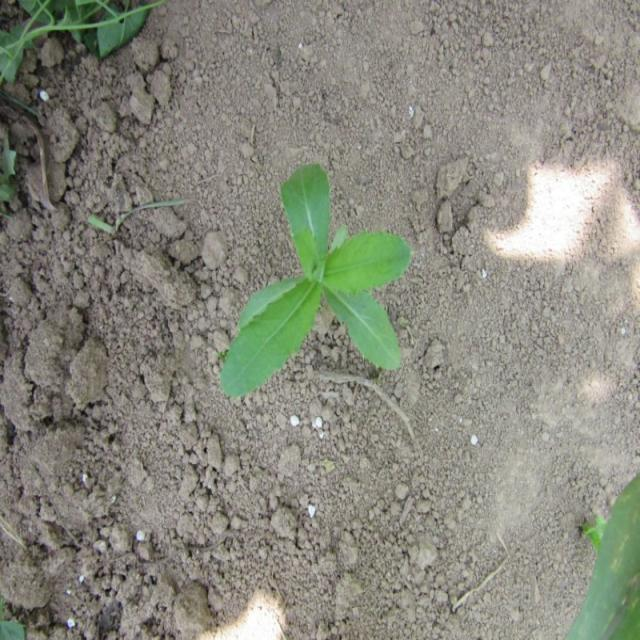field_thistle: (184, 149, 430, 412)
